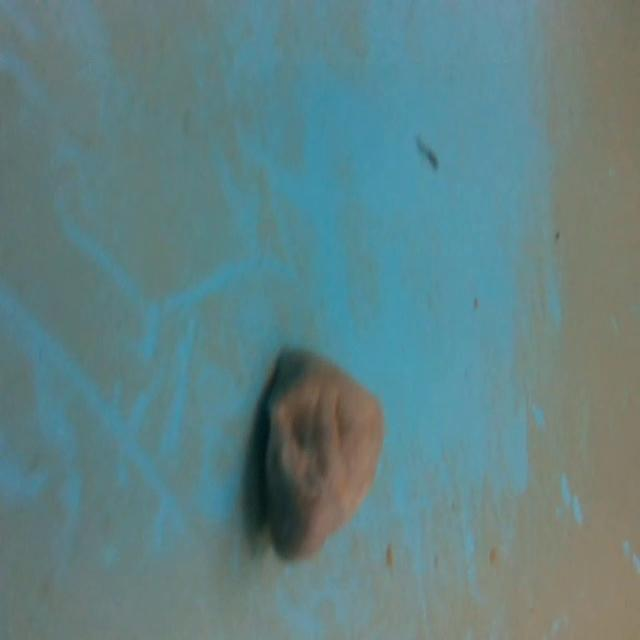rock: (249, 341, 390, 576)
